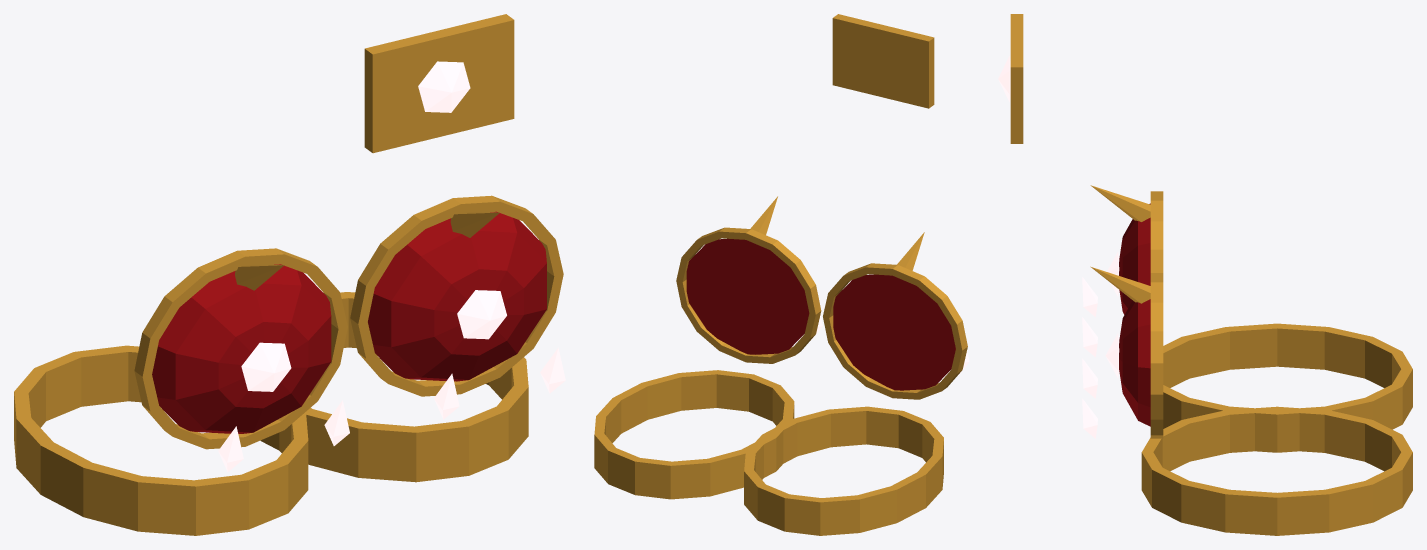
Rendered from armor_guard_legs_mythic_human.glb.
3 renders of one model, left to right at view 1: azimuth 30°, elevation 25°; view 2: azimuth 150°, elevation 25°; view 3: azimuth 270°, elevation 25°, orthographic. The views are drawn at different scales.
Visible parts, largest first — view 1: armor_guard_legs_mythic_human__calf_r, armor_guard_legs_mythic_human__calf_l, armor_guard_legs_mythic_human__pelvis; view 2: armor_guard_legs_mythic_human__calf_r, armor_guard_legs_mythic_human__calf_l, armor_guard_legs_mythic_human__pelvis; view 3: armor_guard_legs_mythic_human__calf_l, armor_guard_legs_mythic_human__calf_r, armor_guard_legs_mythic_human__pelvis.
Boxes of the visible parts, x1,y1,x2,y2 form: armor_guard_legs_mythic_human__calf_r: [14, 248, 349, 535]; armor_guard_legs_mythic_human__calf_l: [260, 195, 565, 482]; armor_guard_legs_mythic_human__pelvis: [364, 14, 514, 153]; armor_guard_legs_mythic_human__calf_r: [744, 232, 969, 535]; armor_guard_legs_mythic_human__calf_l: [594, 196, 822, 499]; armor_guard_legs_mythic_human__pelvis: [832, 14, 934, 108]; armor_guard_legs_mythic_human__calf_l: [1082, 266, 1412, 535]; armor_guard_legs_mythic_human__calf_r: [1082, 185, 1412, 452]; armor_guard_legs_mythic_human__pelvis: [998, 14, 1023, 143].
Size of the model in its own units: 39.07 by 42.7 by 39.32.
